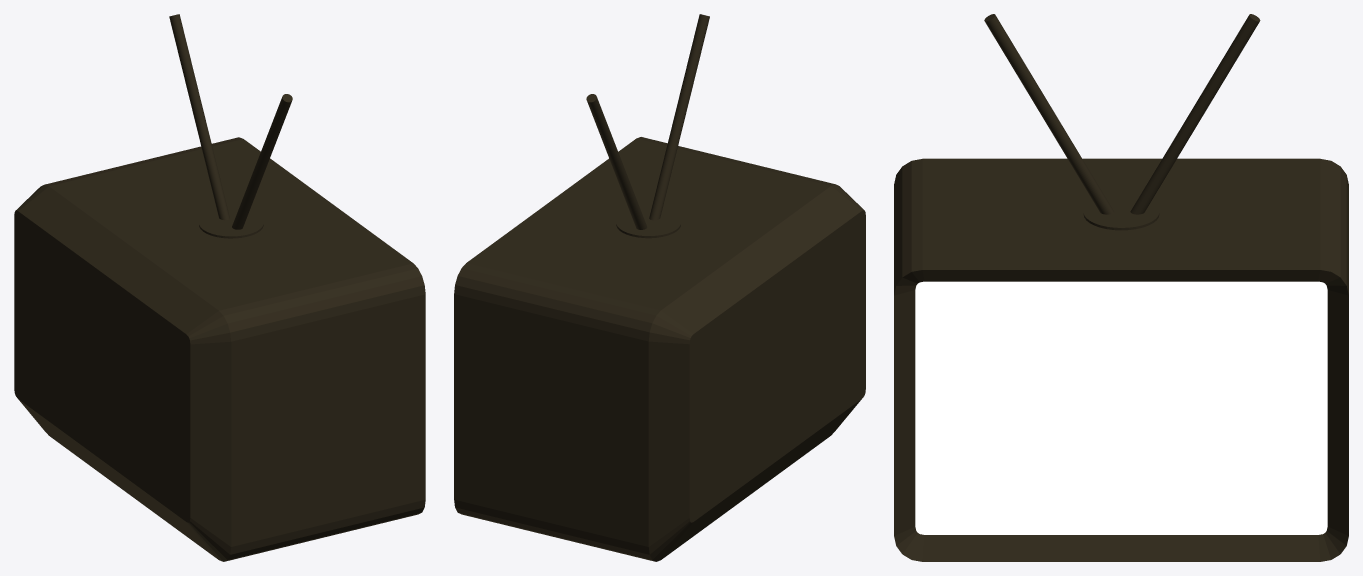
The picture shows the model from 3 angles, left to right: view 1: azimuth 30°, elevation 25°; view 2: azimuth 150°, elevation 25°; view 3: azimuth 270°, elevation 25°; orthographic projection. The views are drawn at different scales.
Parts seen in each view (by area): view 1: TV; view 2: TV; view 3: TV.
Part boxes in pixels (x1,y1,x2,y2): TV: (14, 14, 425, 561); TV: (454, 14, 865, 561); TV: (894, 14, 1348, 561).
Bounding box in the file's own units: 94.91 × 168 × 141.
